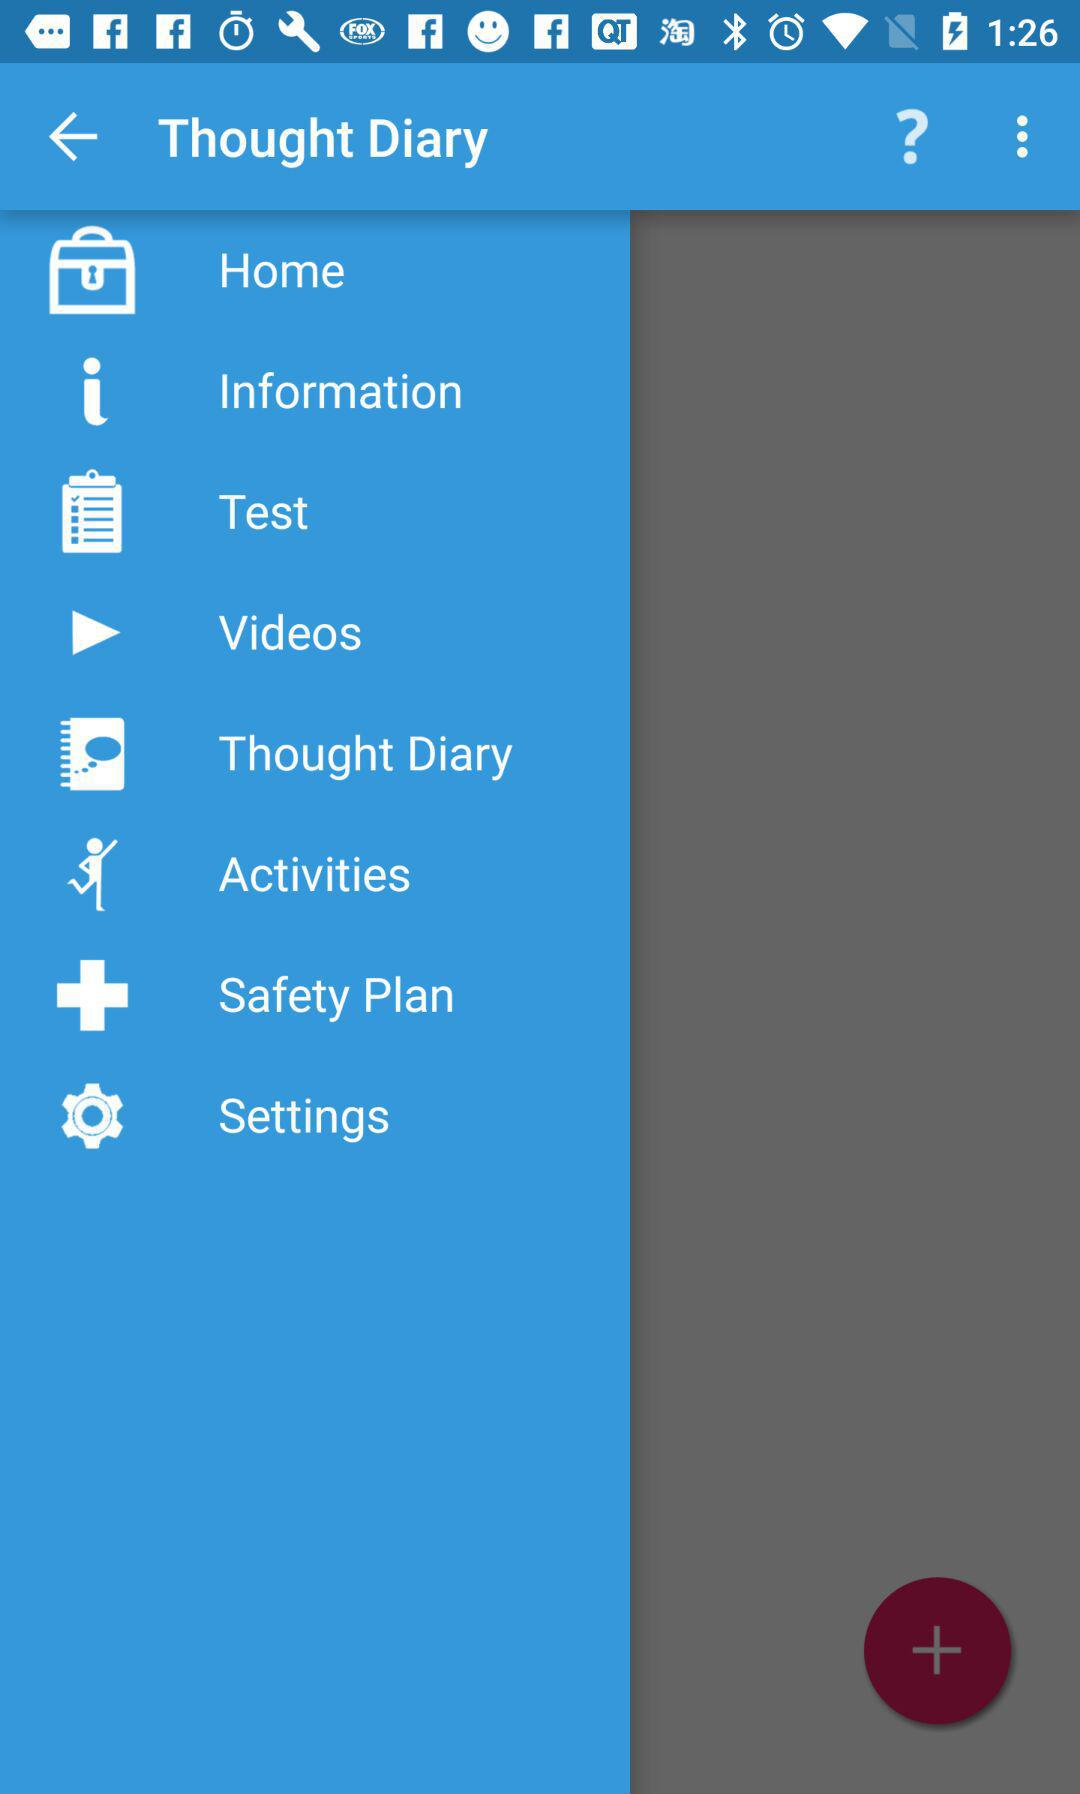Drawer: (1, 211, 632, 1794)
Icon: (863, 1576, 1012, 1726), (45, 343, 145, 443), (47, 226, 138, 317), (56, 959, 129, 1033), (61, 469, 124, 555), (59, 718, 126, 793), (61, 1082, 126, 1151), (47, 111, 100, 163), (70, 609, 123, 657), (896, 108, 929, 167), (1013, 114, 1030, 160)
Image: (67, 835, 120, 912)
Text: (155, 117, 489, 170), (218, 733, 514, 784), (219, 975, 454, 1025), (222, 372, 464, 413), (219, 1096, 391, 1146), (218, 855, 413, 894), (217, 613, 363, 654), (222, 251, 347, 290), (218, 493, 311, 533)
Toolbar: (1, 64, 1080, 211)
UpperTaskBar: (1, 1, 1080, 64)
